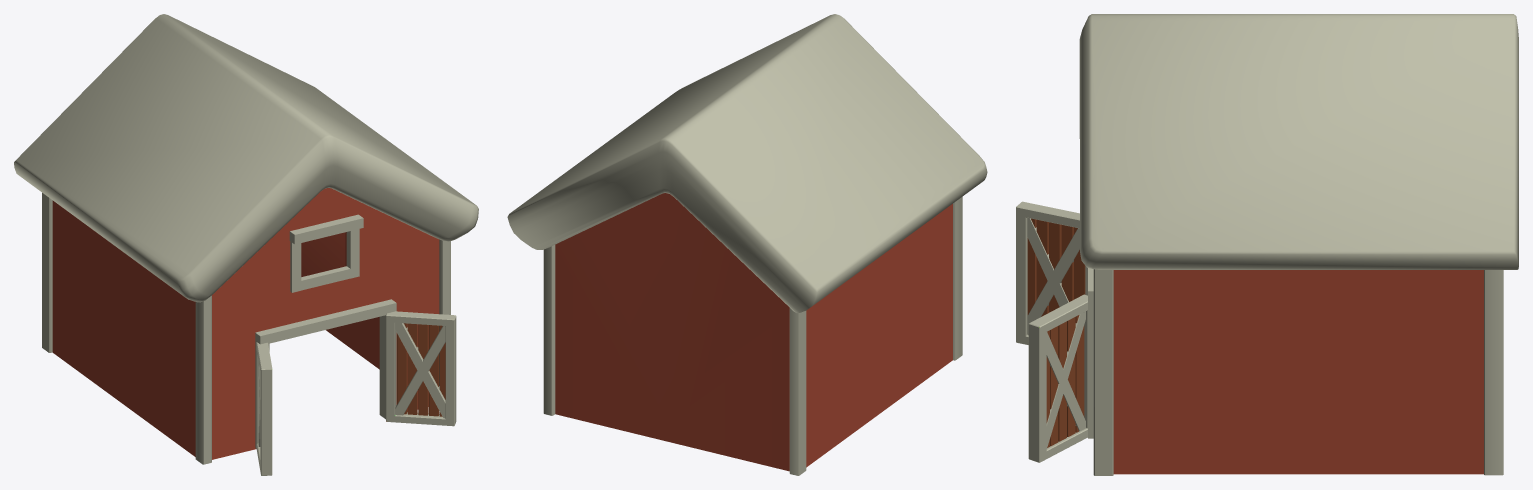
File: Repository.fbx
The picture shows the model from 3 angles, left to right: view 1: azimuth 30°, elevation 25°; view 2: azimuth 150°, elevation 25°; view 3: azimuth 270°, elevation 25°; orthographic projection. The views are drawn at different scales.
Visible parts, largest first — view 1: Rectangle038, Roor_L, Roor_R; view 2: Rectangle038; view 3: Rectangle038, Roor_L, Roor_R.
Part boxes in pixels (x1=…): Rectangle038: x1=14, y1=14, x2=478, y2=464; Roor_L: x1=386, y1=311, x2=456, y2=426; Roor_R: x1=256, y1=342, x2=272, y2=475; Rectangle038: x1=507, y1=14, x2=987, y2=475; Rectangle038: x1=1079, y1=14, x2=1518, y2=475; Roor_L: x1=1028, y1=294, x2=1087, y2=462; Roor_R: x1=1016, y1=201, x2=1087, y2=344.
Bounding box in the file's own units: 187 × 178 × 212.
